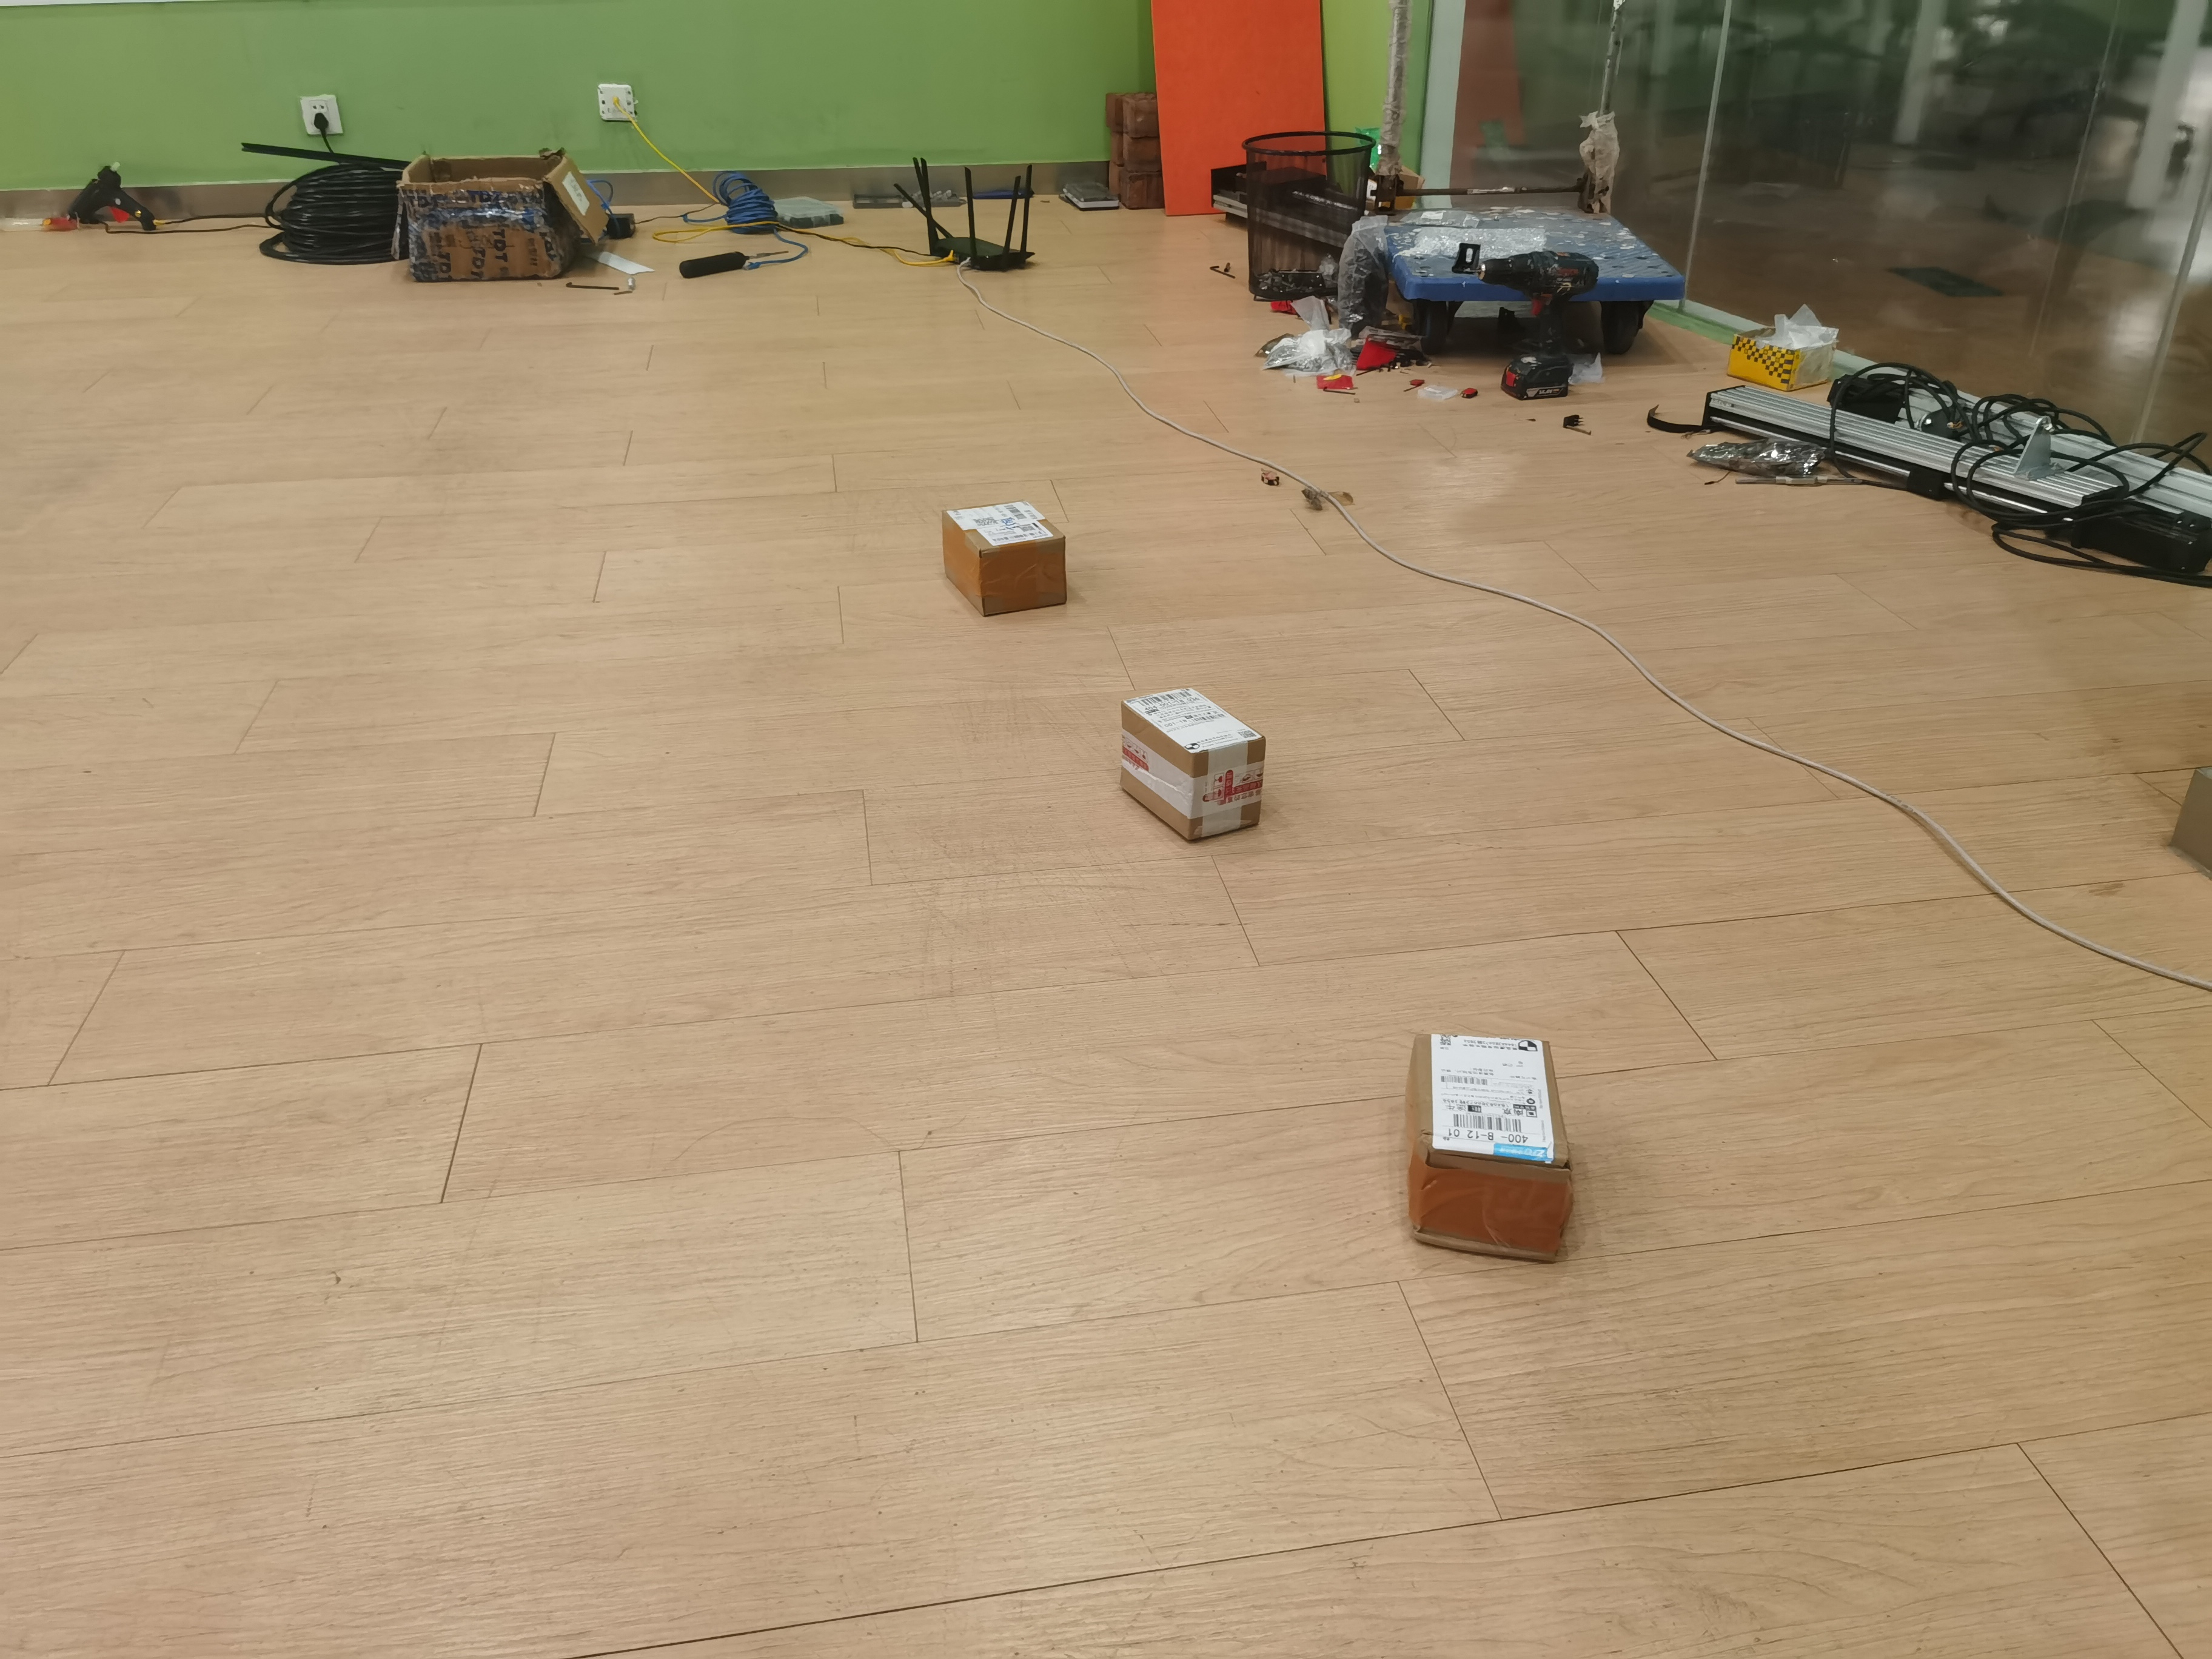box: (1395, 1025, 1581, 1276), (1111, 680, 1273, 854), (935, 497, 1083, 622)
